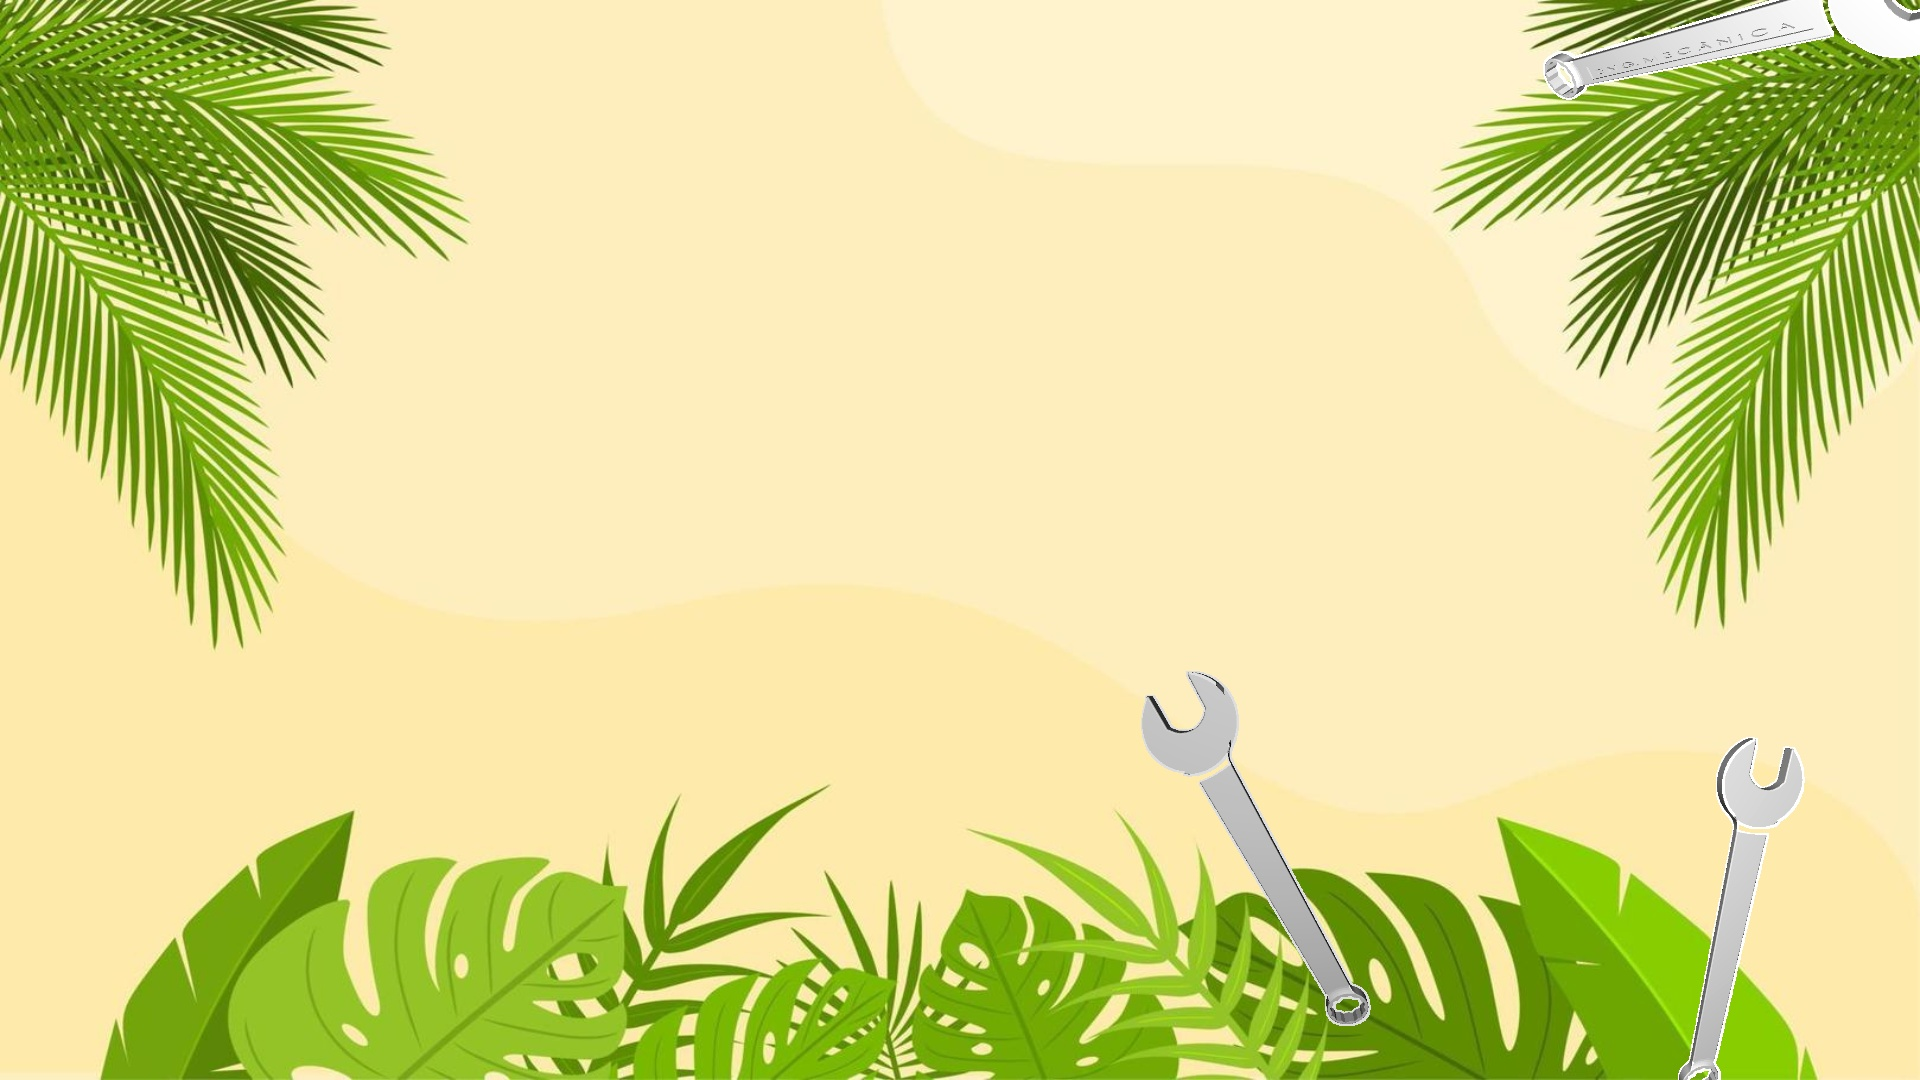Mixed Key: (1141, 671, 1370, 1025), (1677, 737, 1804, 1079), (1543, 0, 1919, 99)
